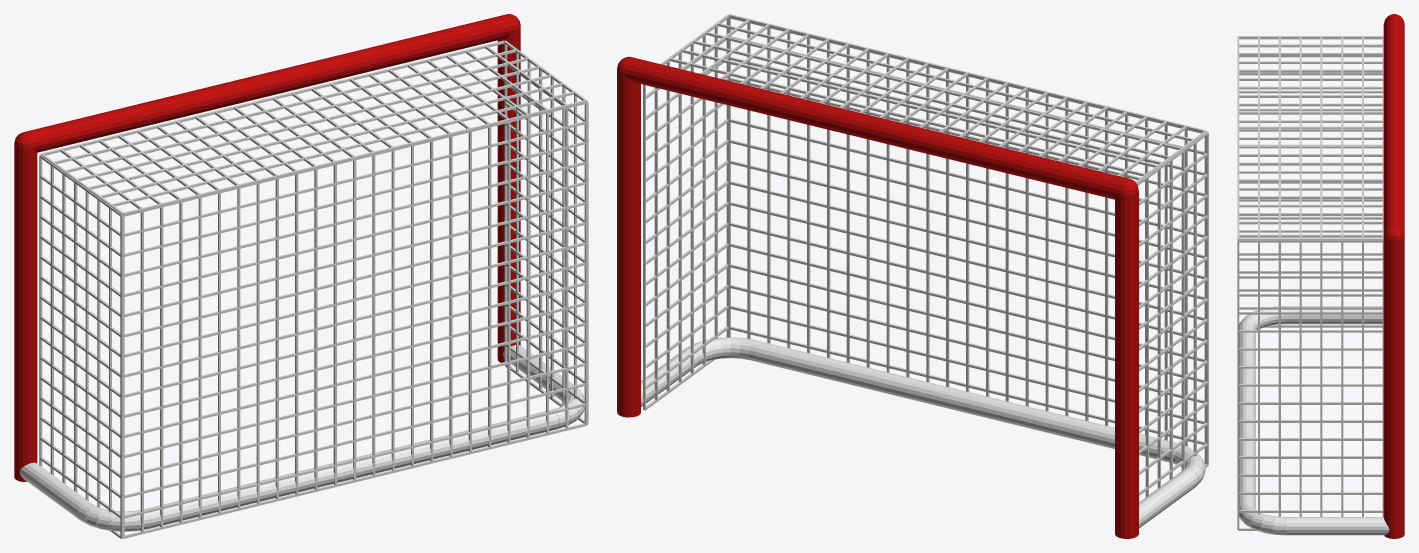
The model's file is net.obj.
3 views of the same model, side by side, from view 1: azimuth 30°, elevation 25°; view 2: azimuth 150°, elevation 25°; view 3: azimuth 270°, elevation 25° (orthographic). The views are drawn at different scales.
Parts seen in each view (by area): view 1: Netting, Crossbar, BaseFrame, LeftPost, RightPost; view 2: Netting, Crossbar, BaseFrame, LeftPost, RightPost; view 3: Netting, BaseFrame, RightPost, Crossbar.
Part boxes in pixels (box(x1,y1,x2,y2)): Netting: box(39, 40, 588, 538); Crossbar: box(14, 14, 520, 152); BaseFrame: box(19, 345, 584, 531); LeftPost: box(14, 145, 37, 481); RightPost: box(497, 27, 520, 362); Netting: box(643, 14, 1208, 497); Crossbar: box(617, 56, 1138, 199); BaseFrame: box(641, 337, 1205, 528); LeftPost: box(1115, 191, 1138, 538); RightPost: box(617, 68, 640, 417); Netting: box(1237, 36, 1383, 530); BaseFrame: box(1239, 306, 1389, 535); RightPost: box(1383, 236, 1404, 538); Crossbar: box(1383, 14, 1404, 239).
Bounding box in the file's own units: 1.99 × 1.3 × 0.64.
